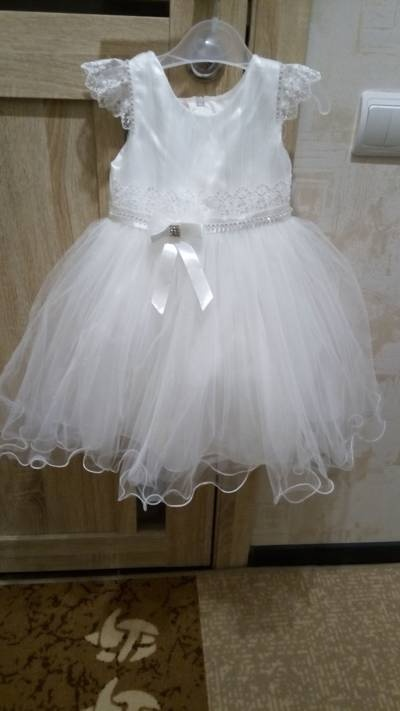Dress: (1, 27, 386, 516)
